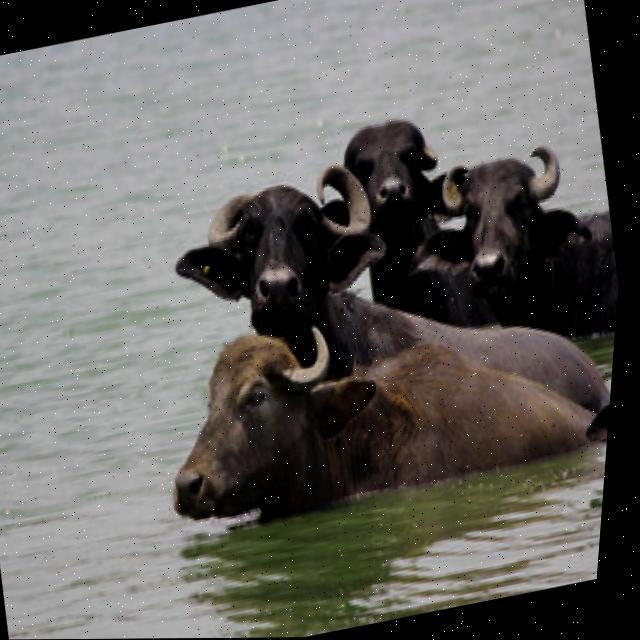Buffalo: (145, 275, 577, 542), (425, 132, 630, 349)
